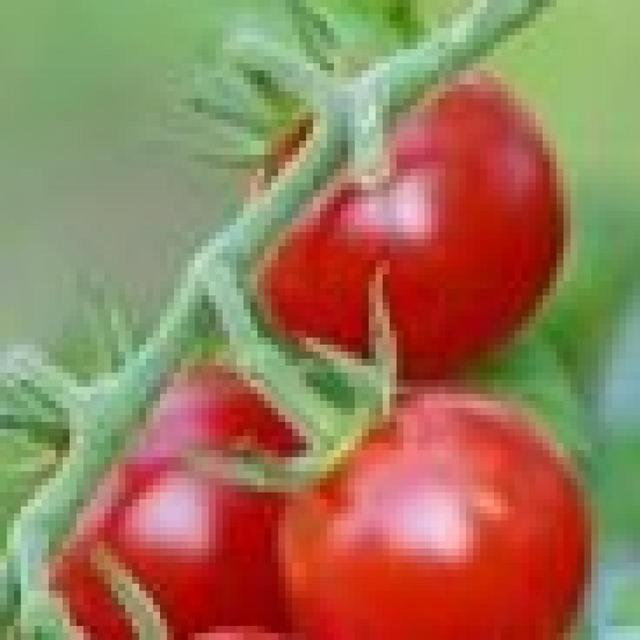Healthy Fruit: (113, 141, 293, 337)
